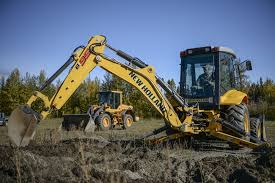bulldozer: (60, 91, 136, 134)
excavator: (9, 42, 269, 145)
